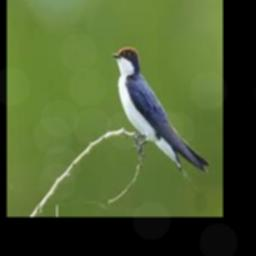Swallow: (111, 47, 210, 174)
